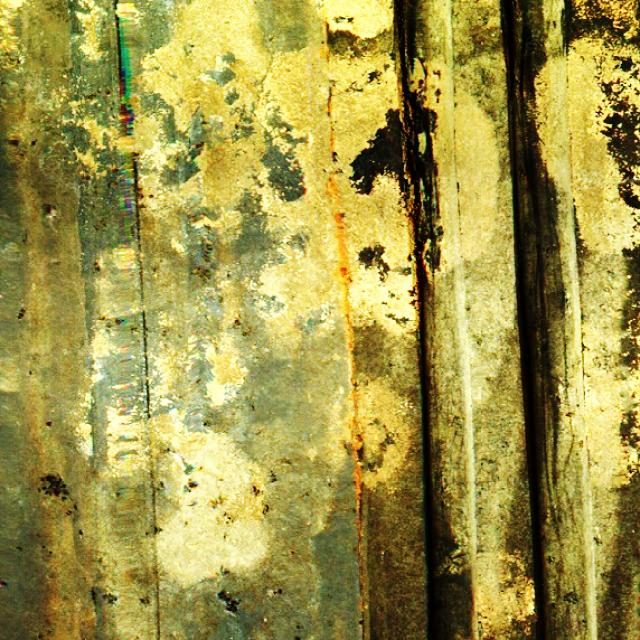Corrosion: (326, 169, 354, 381), (348, 392, 368, 611), (324, 83, 336, 150), (317, 46, 331, 62)
